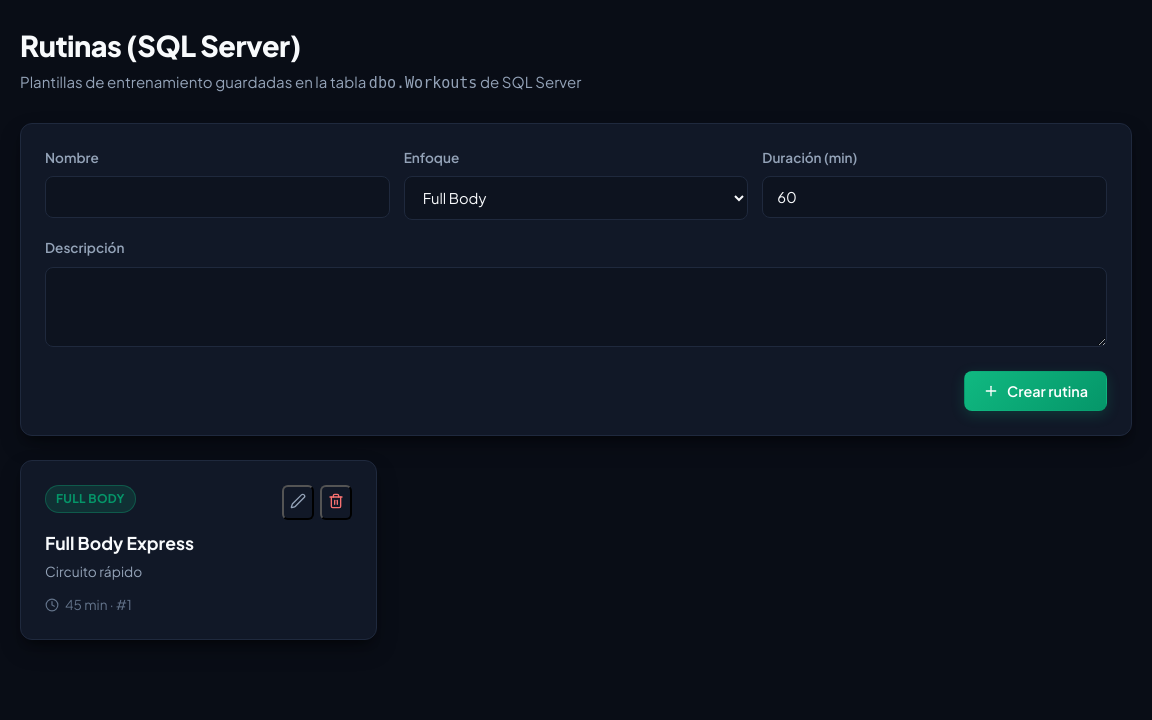
Scenario: WorkoutsPage (useQuery + useMutation + invalidateQueries) › crea una rutina y refresca la lista sin recargar la página
Expected: the heading "Full Body Express" is shown, x1=45 y1=532 x2=194 y2=554
Type "Pierna Pesada" into the field labelled "Nombre" at (217, 197), box x1=45 y1=176 x2=390 y2=218
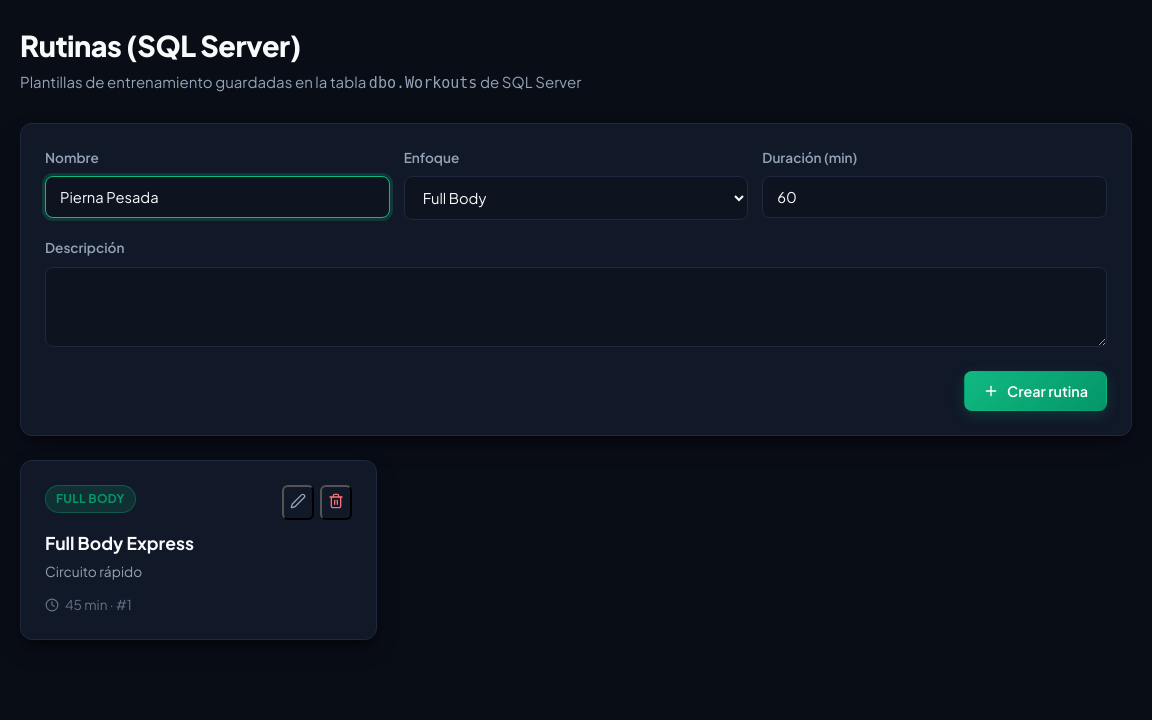
Select "Piernas" in the dropdown labelled "Enfoque" at (576, 198), box x1=404 y1=176 x2=748 y2=220
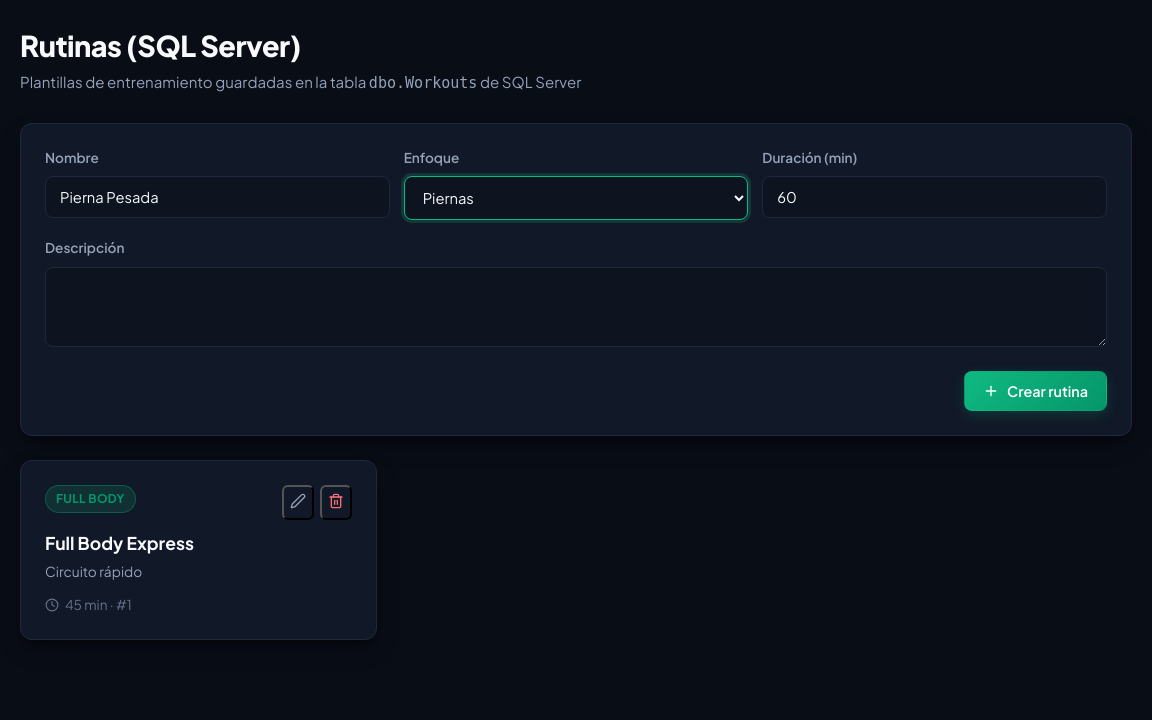
Replace the text in the number field labelled "Duración (min)" with "70" at (935, 197), box x1=762 y1=176 x2=1107 y2=218
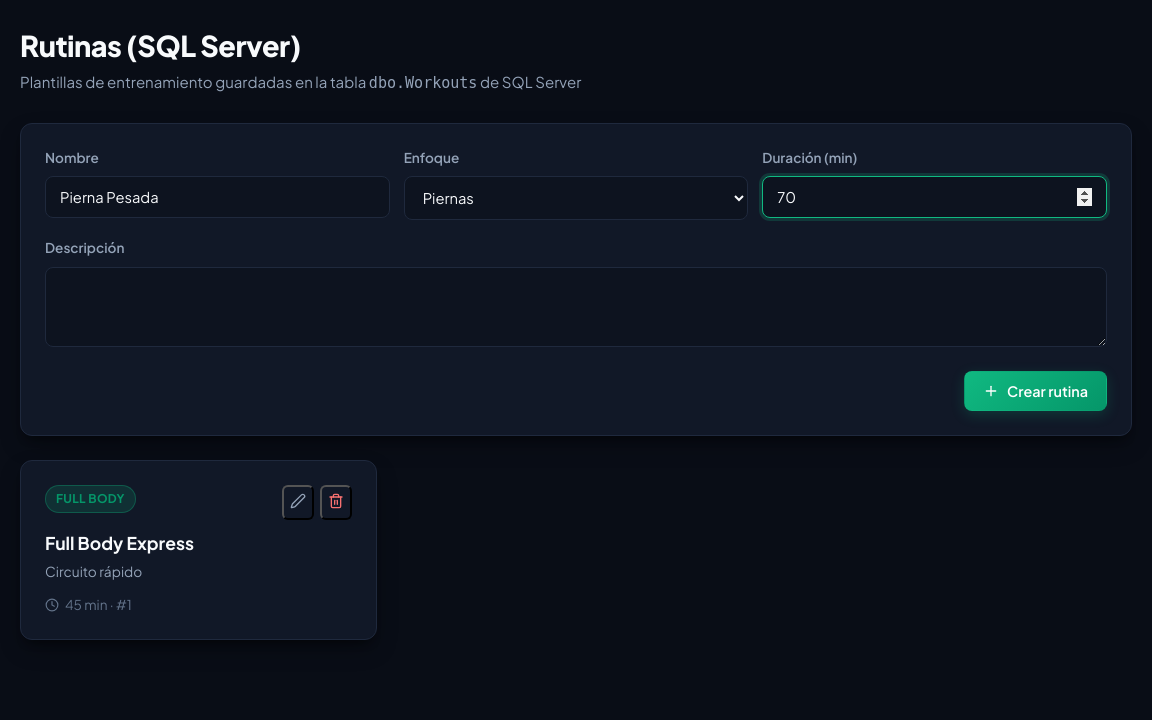
Click the button "Crear rutina" at (1036, 390), box x1=964 y1=370 x2=1107 y2=410
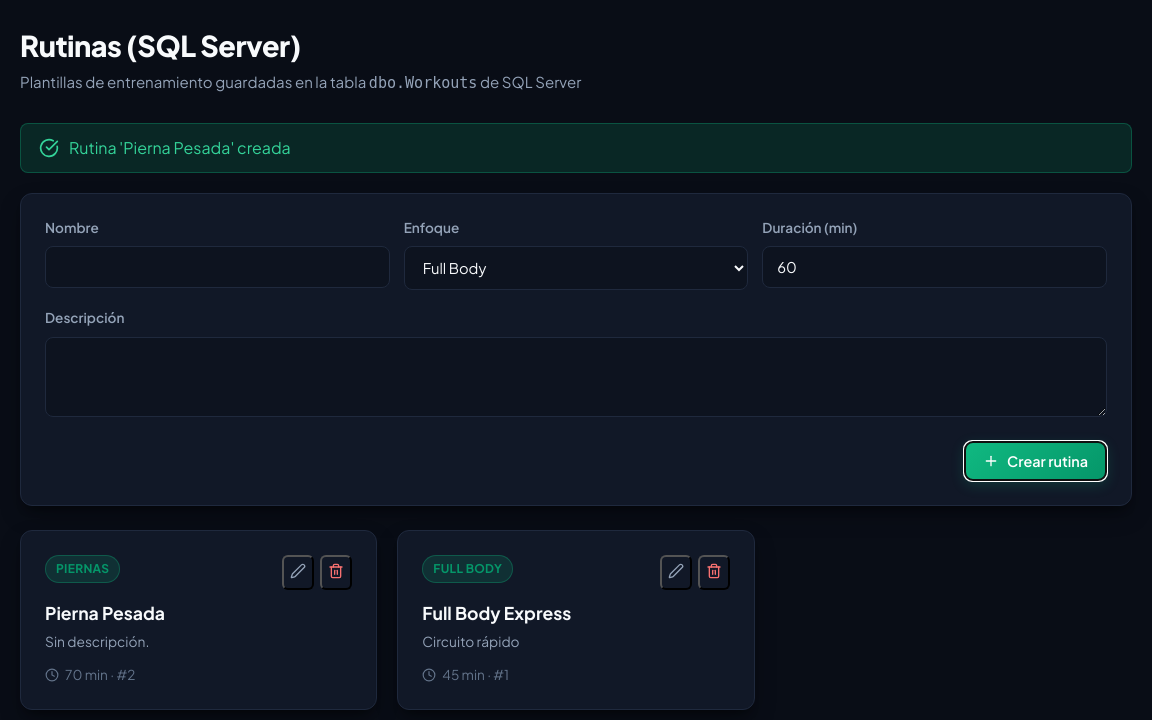
Now the heading "Pierna Pesada" is shown, box x1=45 y1=602 x2=165 y2=624
Now the message reads "Rutina 'Pierna Pesada' creada", box x1=69 y1=137 x2=291 y2=158
